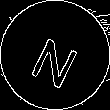N_NE: (26, 23, 84, 87)
